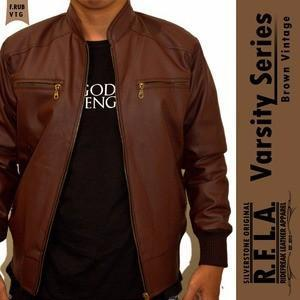jacket: (0, 1, 229, 300)
